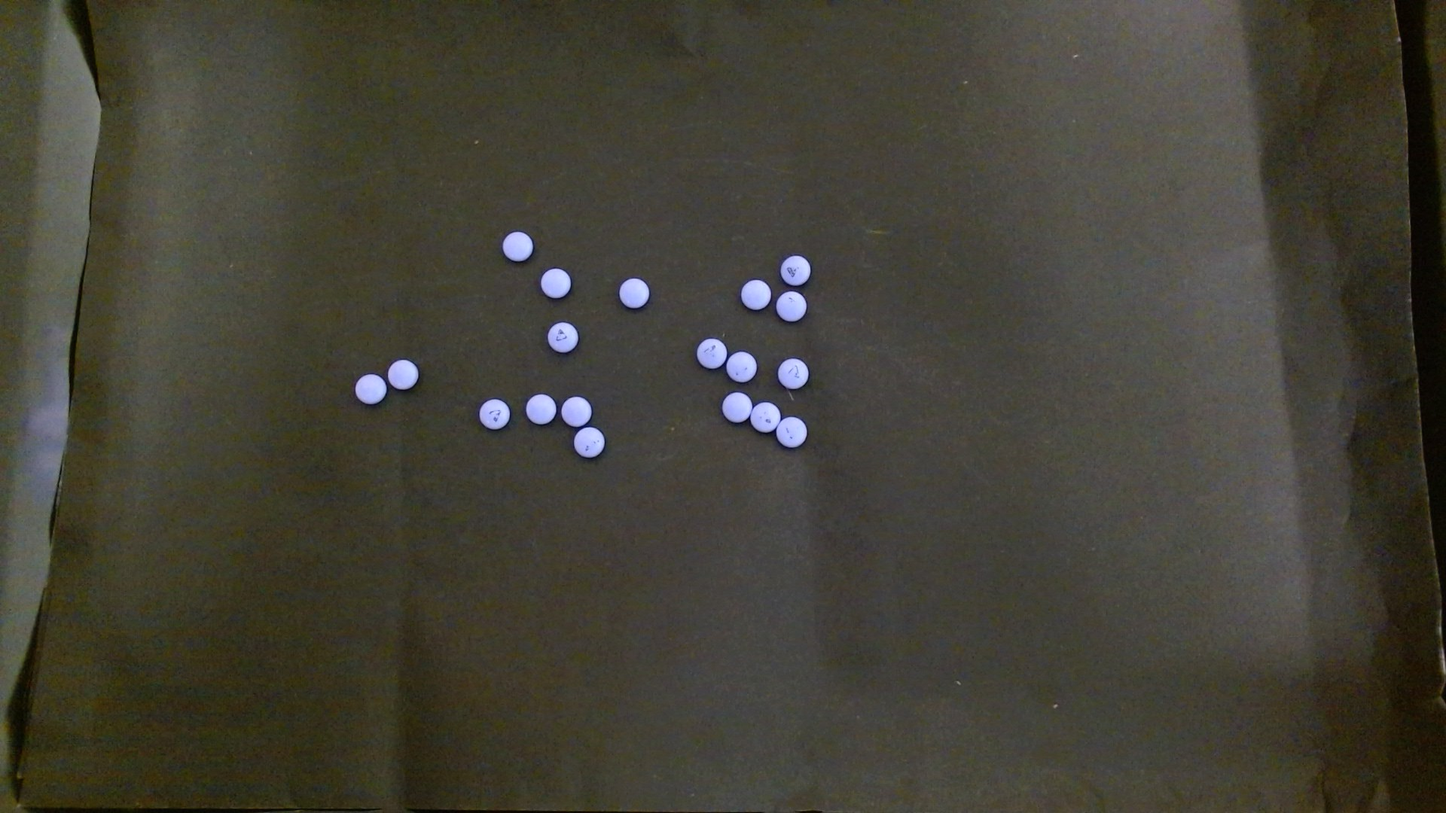Circle: (355, 373, 388, 405), (478, 397, 510, 429), (779, 254, 810, 286), (573, 426, 604, 458), (721, 391, 752, 423), (387, 358, 419, 389), (502, 230, 533, 261), (540, 267, 571, 298), (726, 350, 756, 382), (751, 401, 781, 433), (696, 337, 726, 368), (778, 358, 809, 388), (547, 321, 577, 352), (776, 290, 806, 321), (560, 396, 591, 426), (740, 279, 770, 310), (526, 394, 556, 425), (618, 278, 648, 308), (776, 417, 805, 448)
